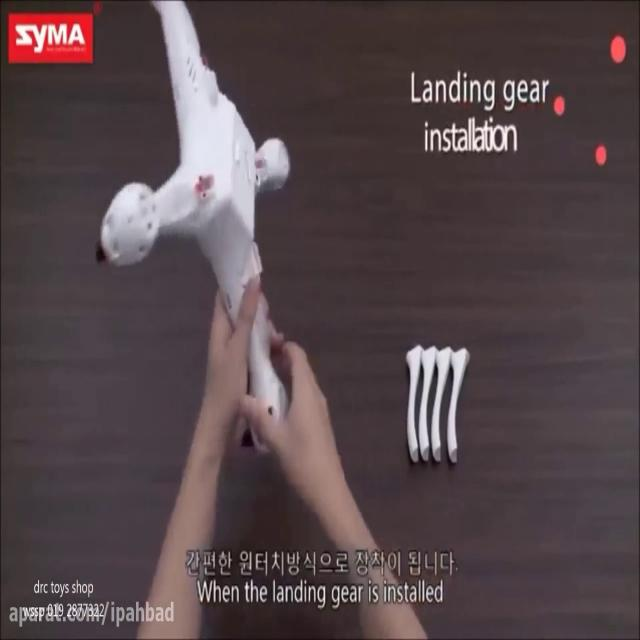drone: (87, 0, 295, 422)
